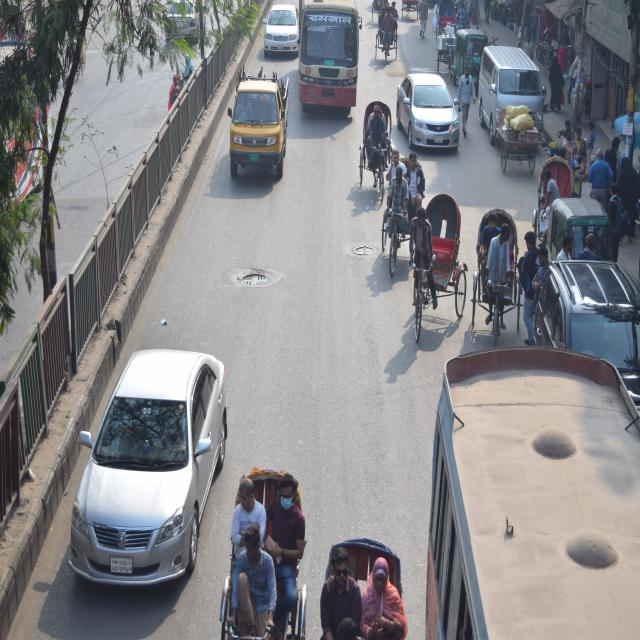bus: (433, 357, 640, 640), (296, 0, 363, 120)
car: (65, 340, 234, 582), (538, 261, 640, 387), (395, 70, 458, 155), (264, 0, 301, 68)
microbus: (476, 48, 546, 144)
pickup-van: (227, 65, 291, 172)
